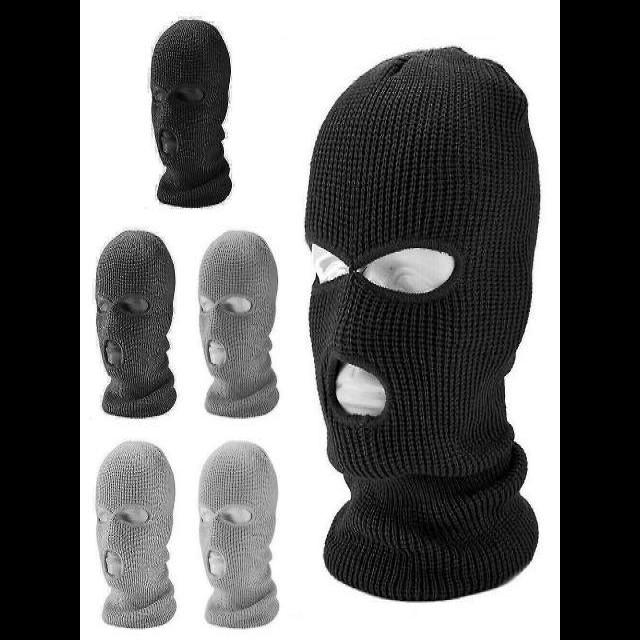6_pasamontana: (150, 20, 232, 208)
